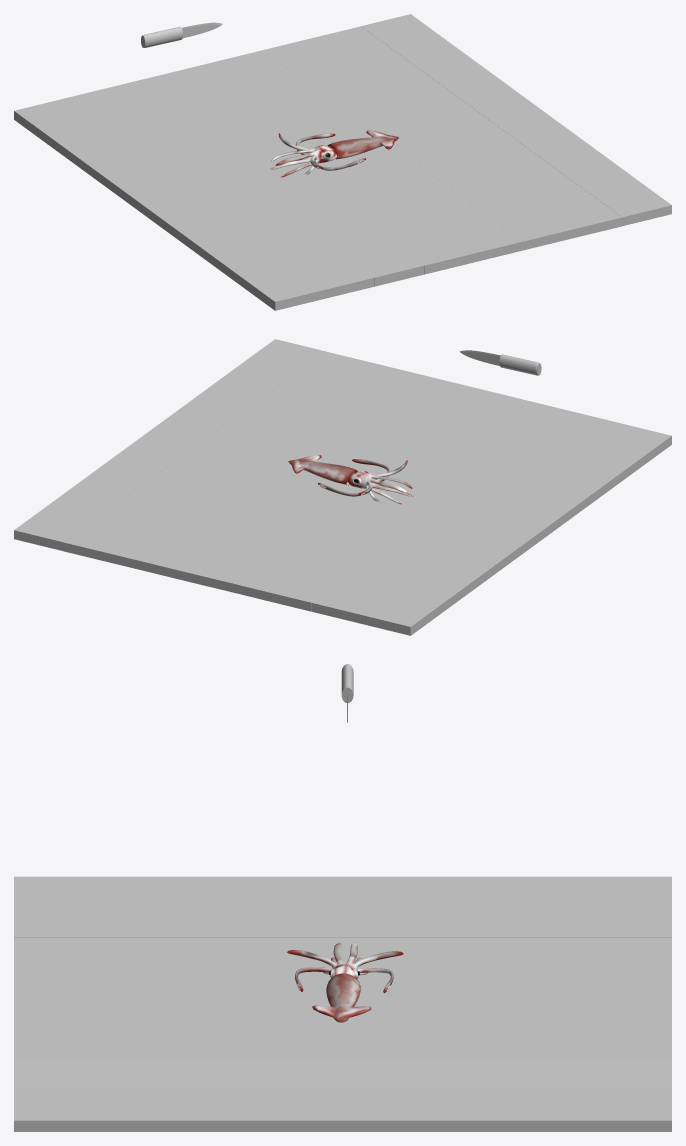
The picture shows the model from 3 angles, top to bottom: view 1: azimuth 30°, elevation 25°; view 2: azimuth 150°, elevation 25°; view 3: azimuth 270°, elevation 25°; orthographic projection. The views are drawn at different scales.
Visible parts, largest first — view 1: 立方体.002, ika.027, ika.015, マキリ_持ちて; view 2: 立方体.002, ika.027, ika.015, マキリ_持ちて; view 3: 立方体.002, ika.027, ika.015.
Part boxes in pixels (x1,y1,x2,y2): 立方体.002: (14, 14, 671, 310); ika.027: (270, 133, 365, 177); ika.015: (327, 130, 398, 159); マキリ_持ちて: (141, 22, 222, 47); 立方体.002: (14, 339, 671, 635); ika.027: (318, 458, 413, 504); ika.015: (288, 455, 357, 484); マキリ_持ちて: (459, 350, 541, 375); 立方体.002: (14, 876, 671, 1131); ika.027: (287, 943, 403, 992); ika.015: (312, 973, 371, 1022).
Bounding box in the file's own units: 3926 × 1690 × 4478.
